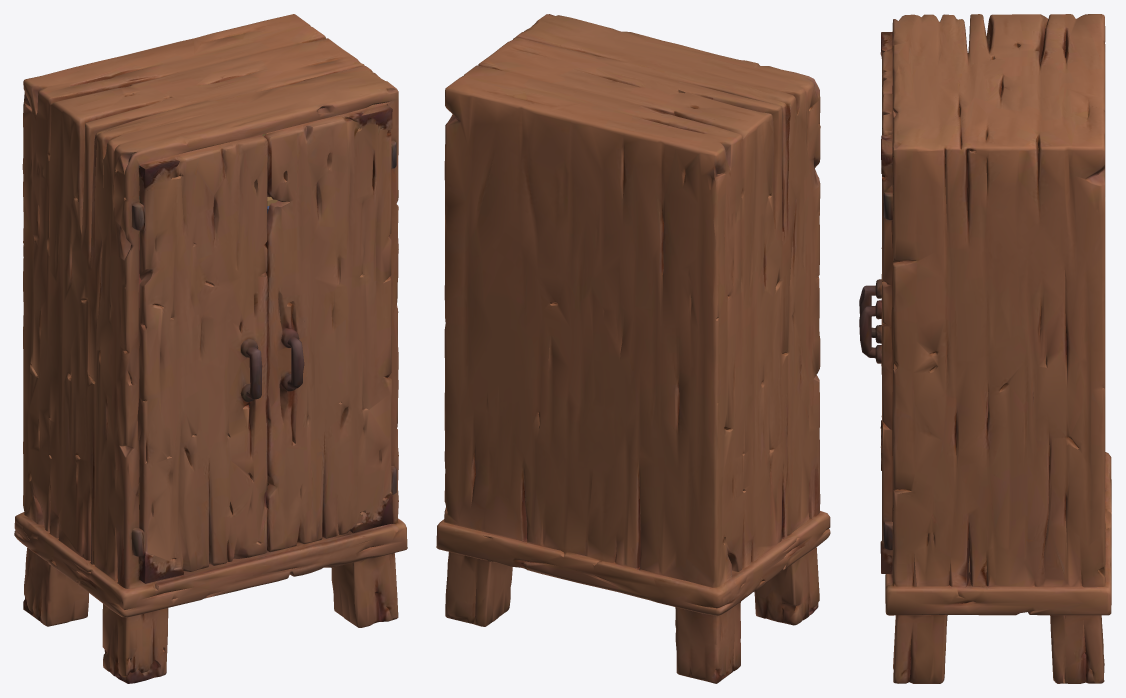
File: wardrobe_derevyannyy_dvustvorchatyy.glb
3 renders of one model, left to right at view 1: azimuth 30°, elevation 25°; view 2: azimuth 150°, elevation 25°; view 3: azimuth 270°, elevation 25°, orthographic.
Visible parts, largest first — view 1: body, door_l, door_r; view 2: body; view 3: body, door_r, door_l.
Part boxes in pixels (x1,y1,x2,y2): body: [14, 14, 407, 683]; door_l: [139, 135, 267, 583]; door_r: [263, 105, 392, 552]; body: [436, 14, 830, 683]; body: [881, 14, 1111, 683]; door_r: [859, 95, 892, 574]; door_l: [859, 32, 892, 470].
Bounding box in the file's own units: 1.13 × 2 × 0.8519.
11 materials, 3 textured.
